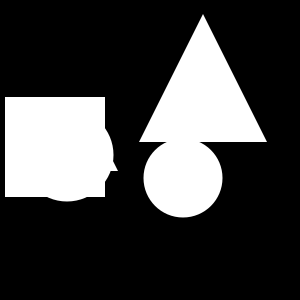circle: (5, 97, 105, 197)
rectangle: (20, 109, 113, 202), (144, 139, 222, 218)
triangle: (139, 14, 267, 142), (69, 122, 118, 171)
